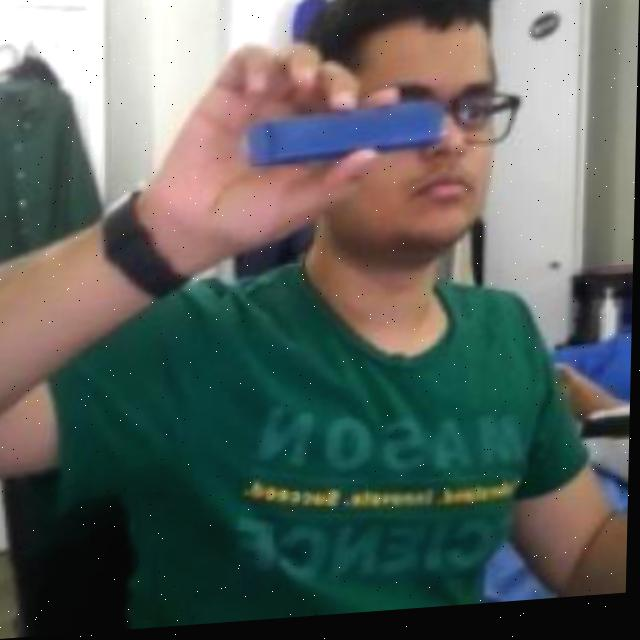vape: (245, 107, 449, 171)
